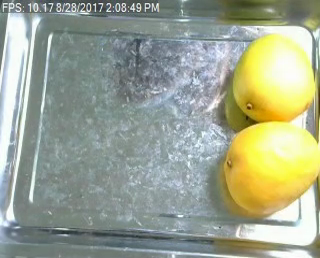Mango: (224, 121, 320, 212), (233, 35, 320, 121)
